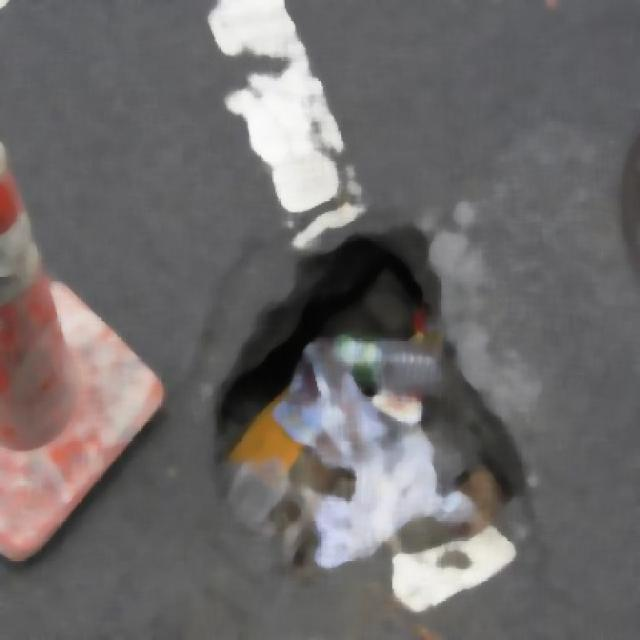Pothole: (227, 227, 525, 618)
